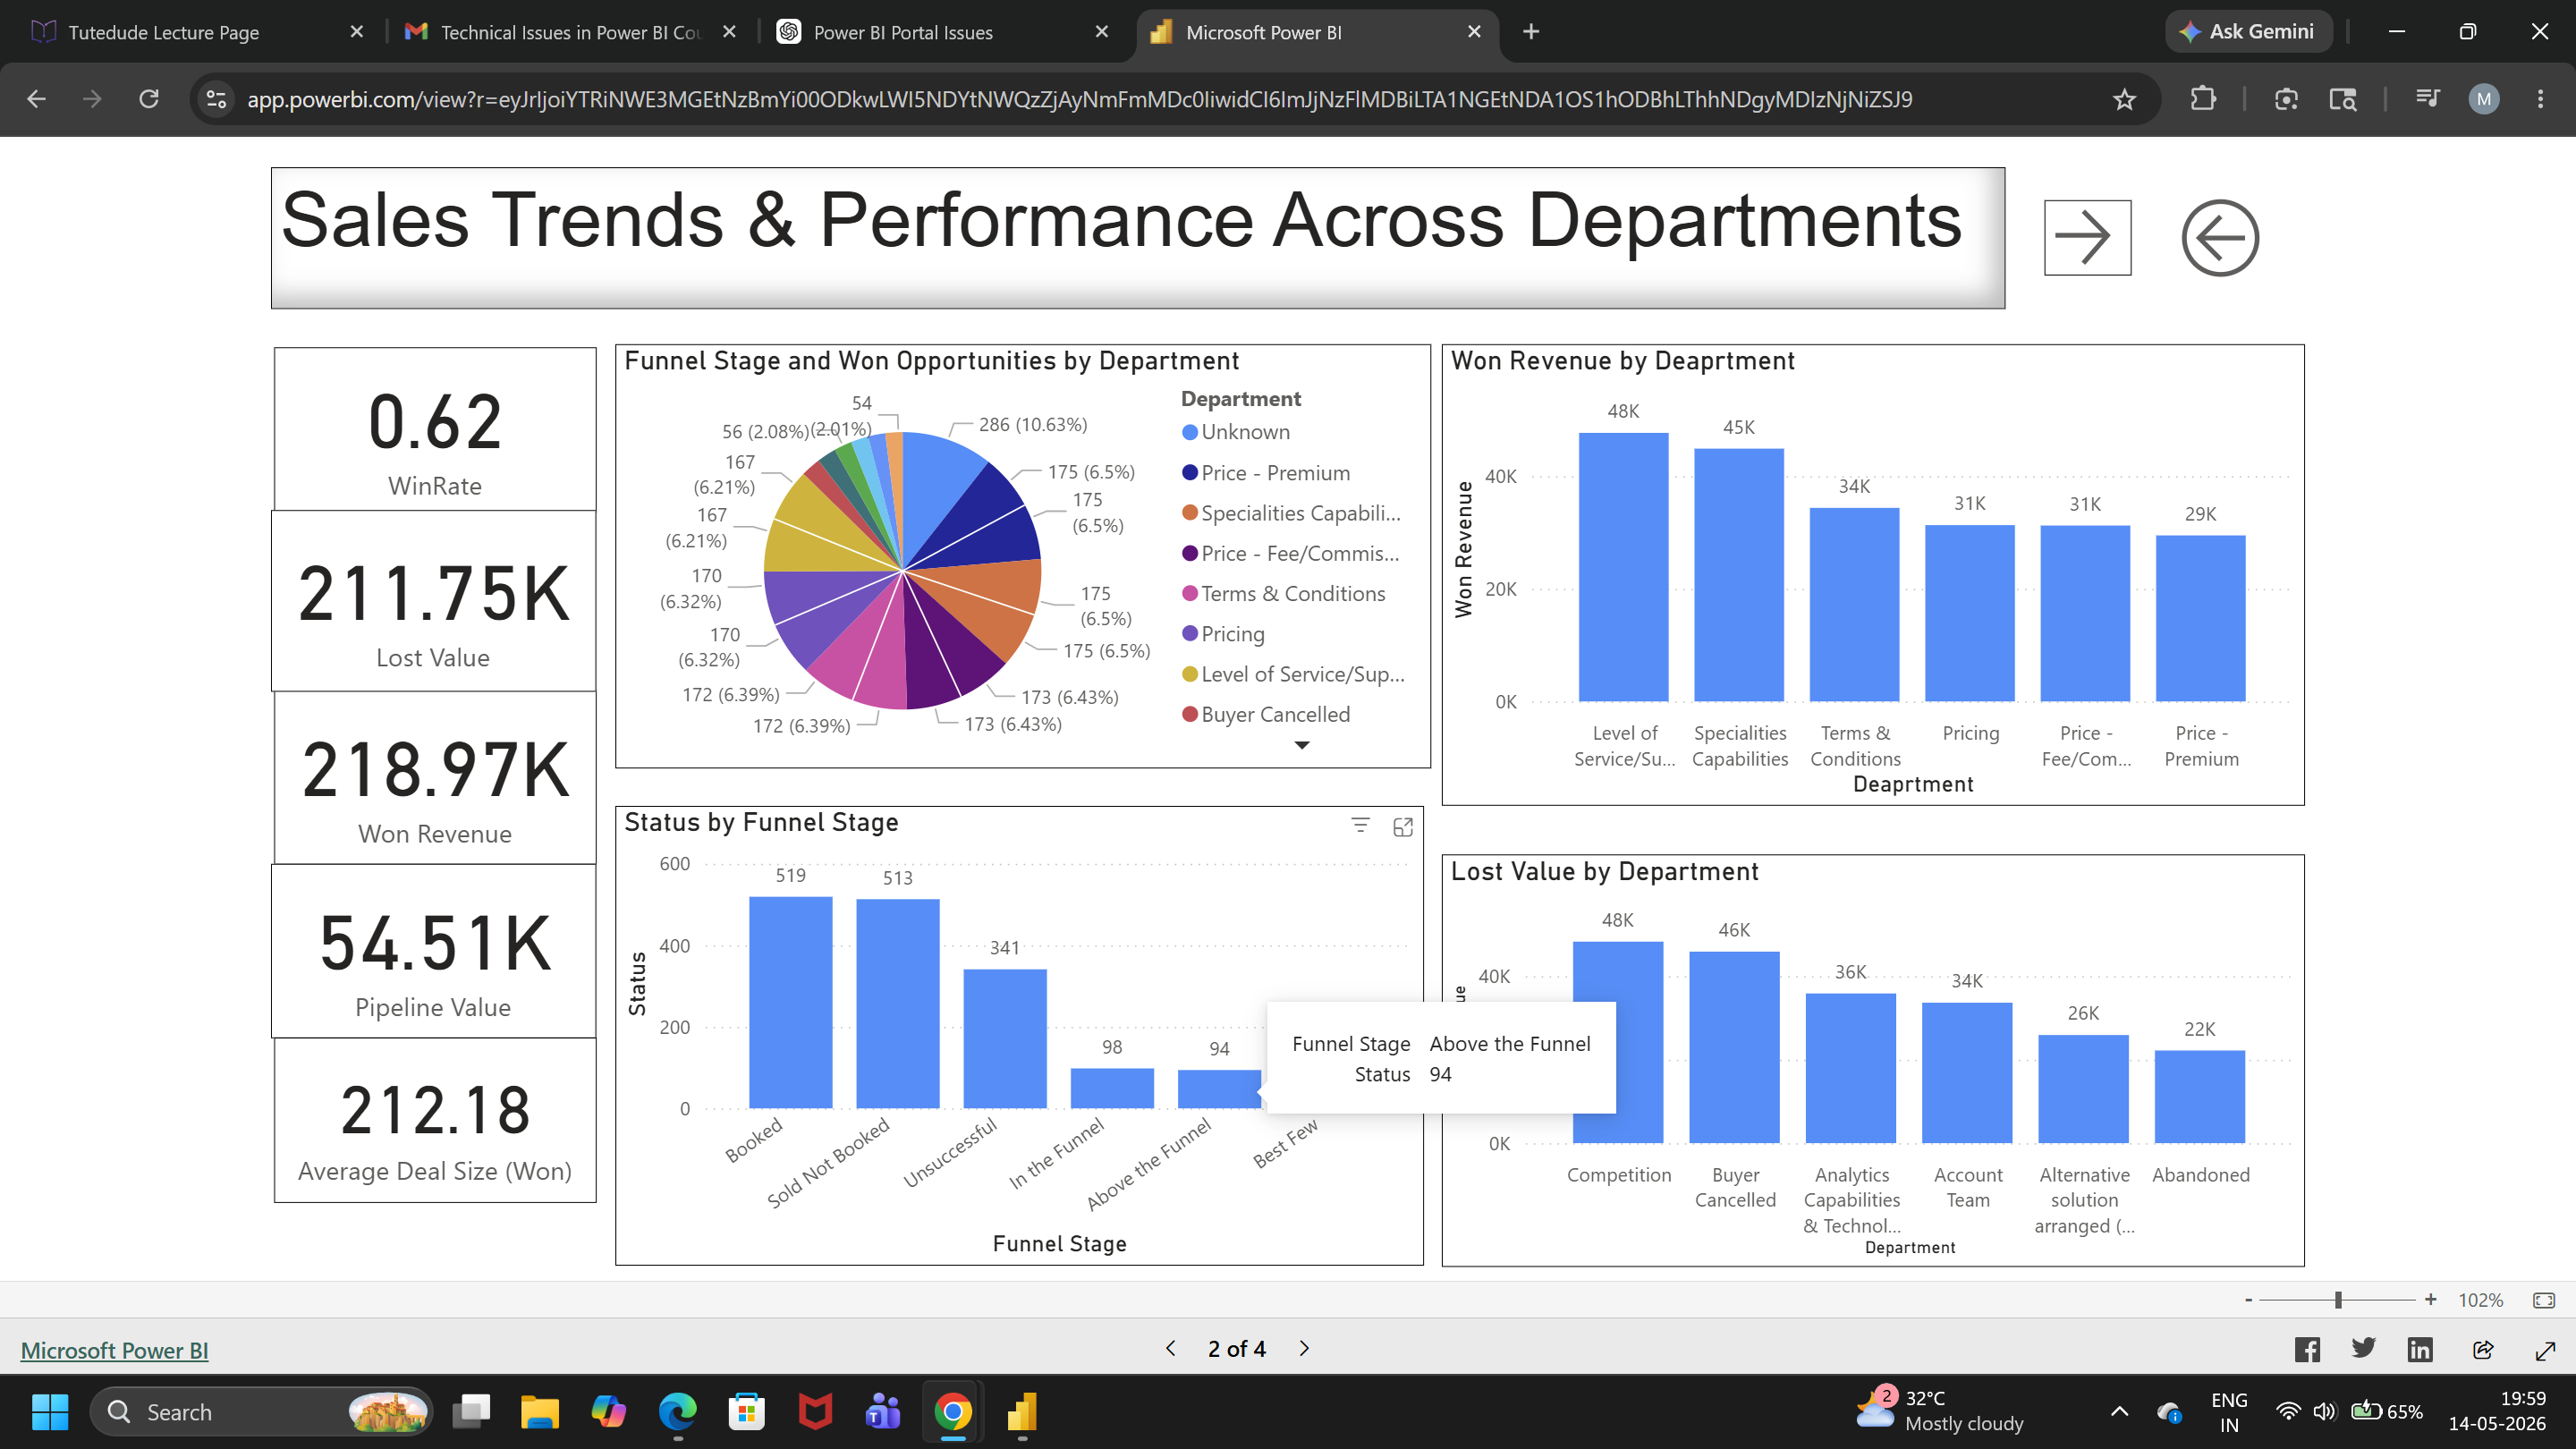

Layout of this report page (visuals, bound fields, positions):
{"tool":"powerbi","page":{"name":"Sales Performance","canvas":[1280,720],"ordinal":5},"visuals":[{"type":"card","fields":{"Values":["Sheet1.WinRate"]},"box":[1.5,133,203.1,103.8],"z":0},{"type":"card","fields":{"Values":["Sheet1.Won Revenue"]},"box":[1.5,348.2,203.1,109.7],"z":1000},{"type":"card","fields":{"Values":["Sheet1.Lost Value"]},"box":[0,235.5,204.6,114.2],"z":2000},{"type":"card","fields":{"Values":["Sheet1.Pipeline Value"]},"box":[0,457.7,204.6,109.7],"z":3000},{"type":"card","fields":{"Values":["Sheet1.Average Deal Size (Won)"]},"box":[1.5,567.4,203.1,103.8],"z":4000},{"type":"pieChart","fields":{"Category":["Sheet1.Reason Won / Lost"],"Y":["CountNonNull(Sheet1.Funnel Stage)","Sheet1.Won Opportunities"]},"box":[216.4,130.5,512.9,266.8],"z":5000},{"type":"columnChart","fields":{"Category":["Sheet1.Funnel Stage"],"Y":["CountNonNull(Sheet1.Status)"]},"box":[216.4,421,508.5,289.1],"z":6000},{"type":"columnChart","fields":{"Category":["Sheet1.Reason Won / Lost"],"Y":["Sheet1.Won Revenue"]},"box":[736.8,130.5,542.6,290.6],"z":7000},{"type":"columnChart","fields":{"Category":["Sheet1.Reason Won / Lost"],"Y":["Sheet1.Lost Value"]},"box":[736.8,452.2,542.6,259.4],"z":8000},{"type":"textbox","box":[0,19.3,1091.1,88.9],"z":14000},{"type":"actionButton","box":[1114.8,40,54.9,47.4],"z":15000},{"type":"actionButton","box":[1194.9,32.6,62.3,63.7],"z":16000}]}

Visuals, with their boxes on the page's 1280x720 design canvas (x1, y1, x2, y2). These are canvas units, not pixel positions in the 2576x1449 screenshot, which may show the page scaled, cropped or inside an application window:
card - Sheet1.WinRate: 2:133:205:237
card - Sheet1.Won Revenue: 2:348:205:458
card - Sheet1.Lost Value: 0:236:205:350
card - Sheet1.Pipeline Value: 0:458:205:567
card - Sheet1.Average Deal Size (Won): 2:567:205:671
pieChart - Sheet1.Reason Won / Lost x CountNonNull(Sheet1.Funnel Stage): 216:130:729:397
columnChart - Sheet1.Funnel Stage x CountNonNull(Sheet1.Status): 216:421:725:710
columnChart - Sheet1.Reason Won / Lost x Sheet1.Won Revenue: 737:130:1279:421
columnChart - Sheet1.Reason Won / Lost x Sheet1.Lost Value: 737:452:1279:712
textbox: 0:19:1091:108
actionButton: 1115:40:1170:87
actionButton: 1195:33:1257:96
